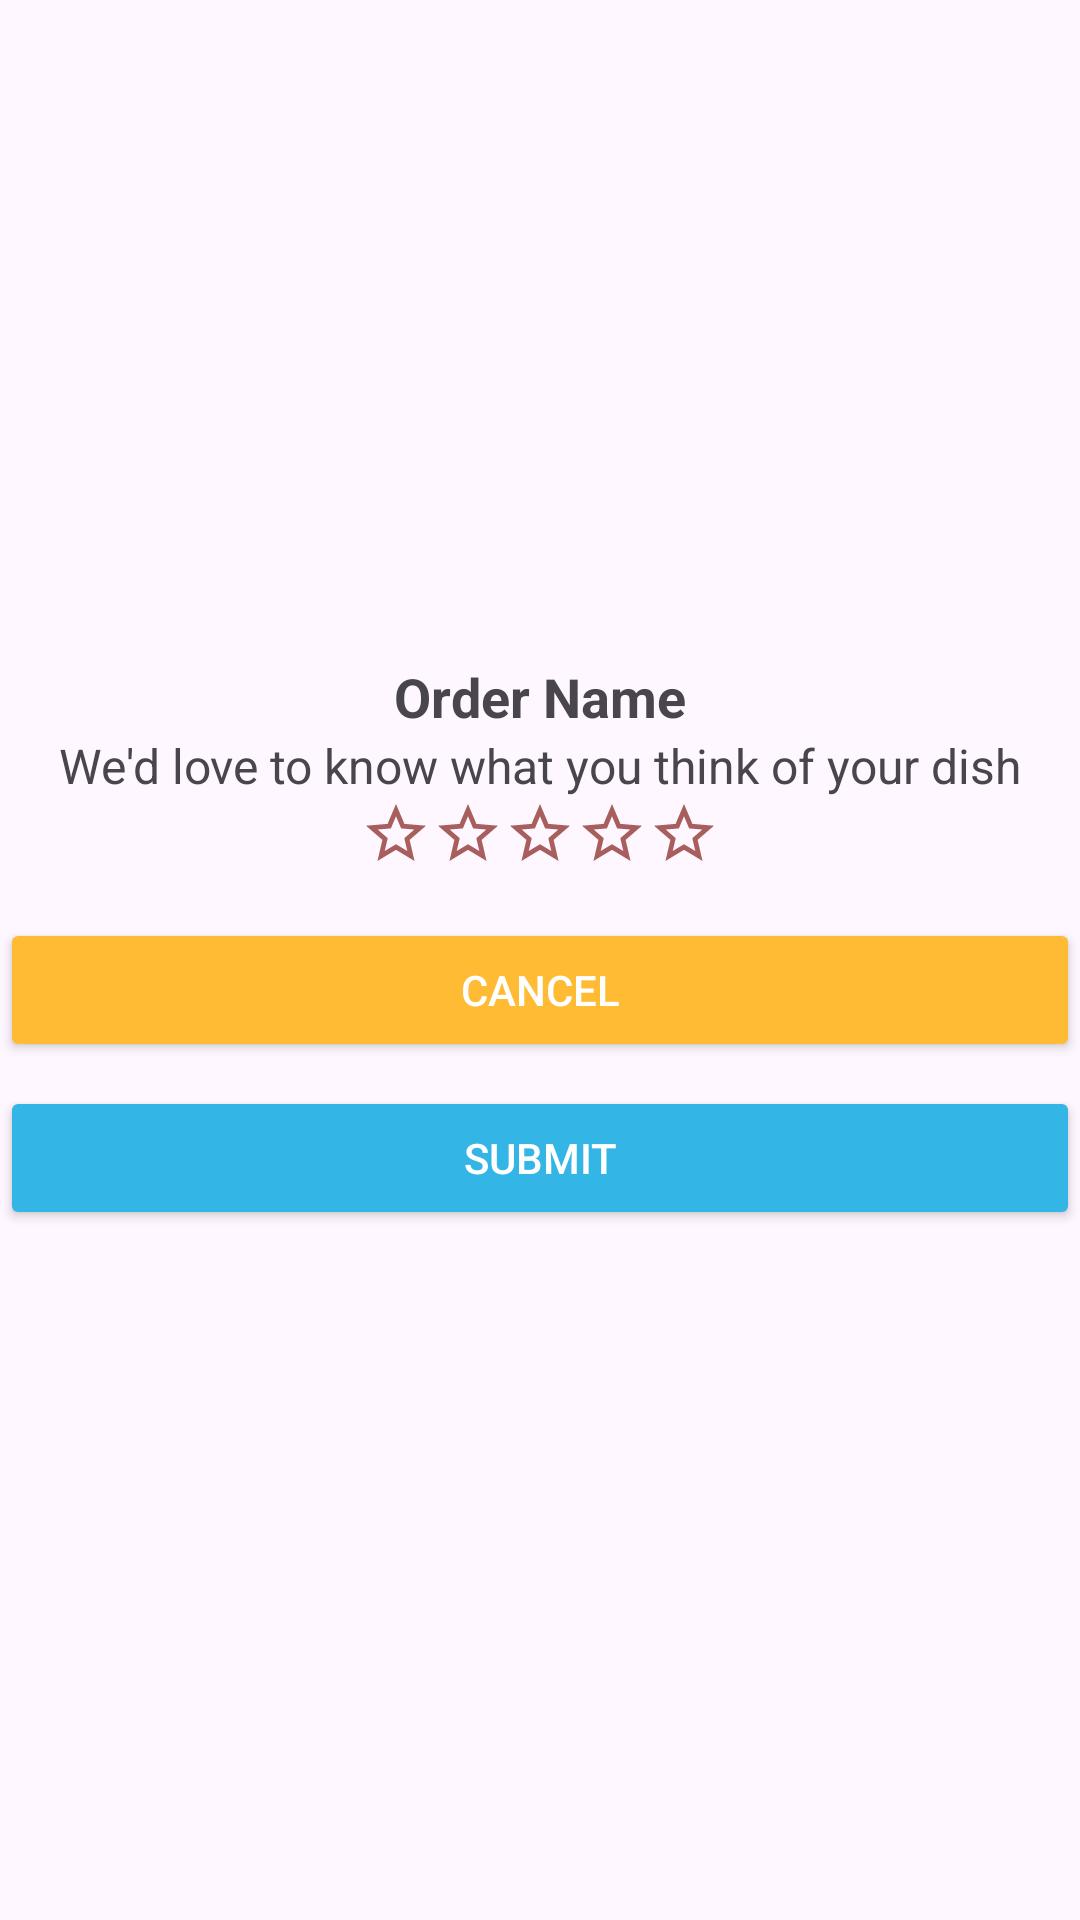

Icons on this 1080*1920 Android screen, each with the point to tap as (x,y):
star border: (396,832), (468,832), (540,832), (612,832), (684,832)
